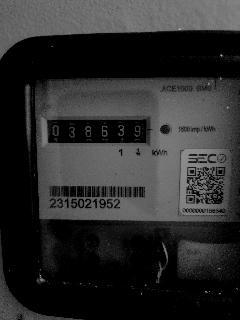1: (53, 126, 59, 137)
4: (118, 125, 124, 136), (69, 127, 75, 138)
7: (102, 126, 108, 137)
9: (85, 127, 91, 138)
:: (135, 126, 141, 137)
